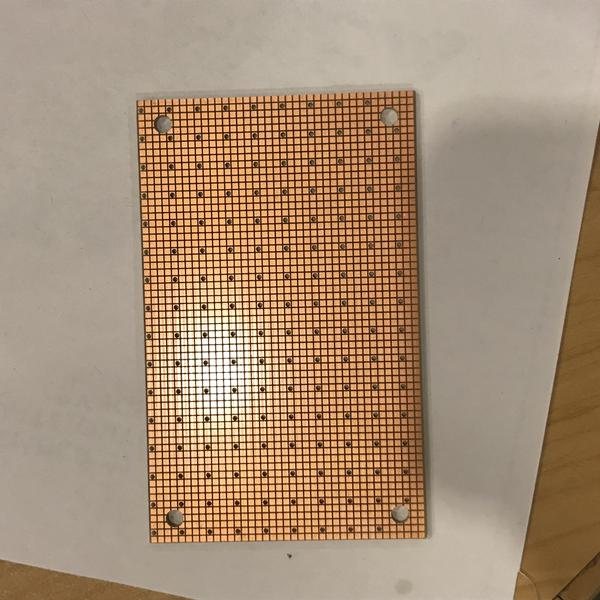board: (130, 84, 434, 546)
